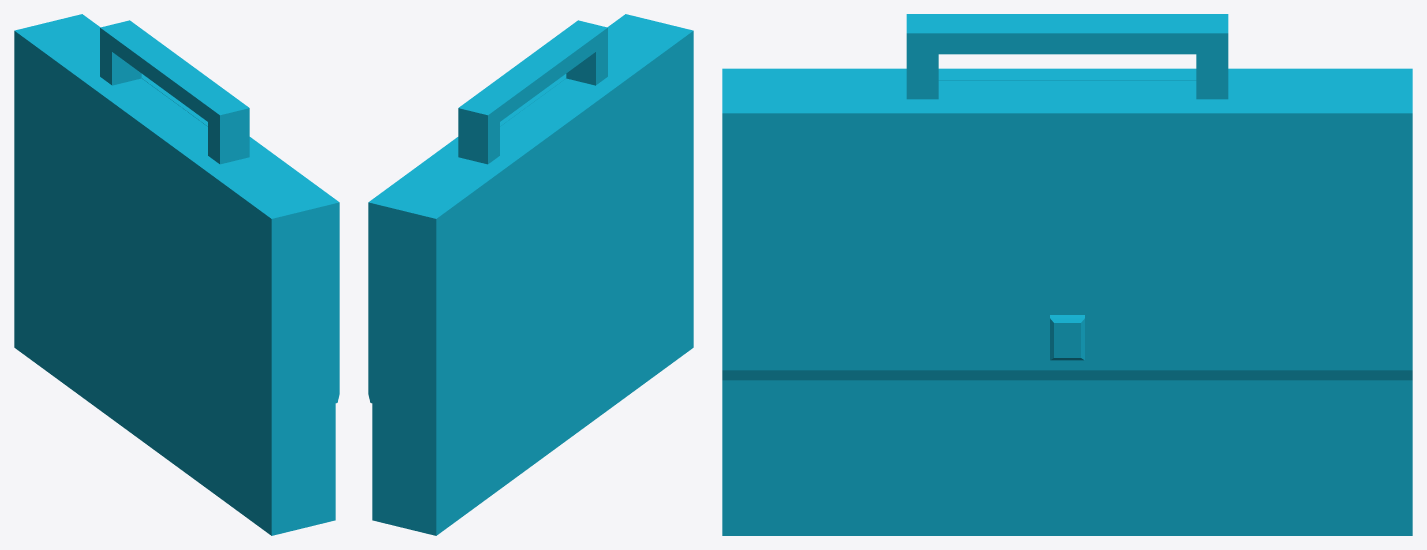
Rendered from portfolio3dicon.glb.
The picture shows the model from 3 angles, left to right: view 1: azimuth 30°, elevation 25°; view 2: azimuth 150°, elevation 25°; view 3: azimuth 270°, elevation 25°; orthographic projection. The views are drawn at different scales.
Visible parts, largest first — view 1: Text.036; view 2: Text.036; view 3: Text.036.
Boxes of the visible parts, box(x1,y1,x2,y2) form: Text.036: box(14, 14, 339, 535); Text.036: box(368, 14, 693, 535); Text.036: box(722, 14, 1412, 535).
Bounding box in the file's own units: 0.6782 × 3.17 × 4.04.
